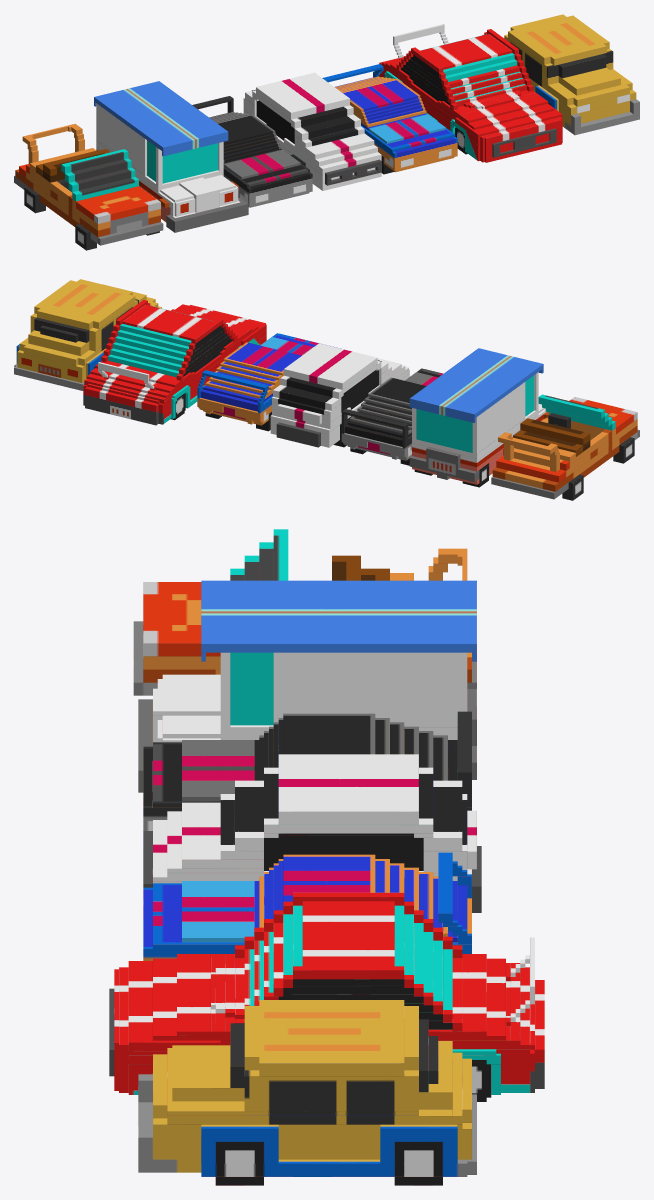
The model's file is Cars.fbx.
3 renders of one model, top to bottom at view 1: azimuth 30°, elevation 25°; view 2: azimuth 150°, elevation 25°; view 3: azimuth 270°, elevation 25°, orthographic. The views are drawn at different scales.
Visible parts, largest first — view 1: RedSport_Car, Iscream_Car, Roadster_Car, YellowTaxi_Car, Beatle_Car, BlueRacer_Car, BlackRacer_Car; view 2: RedSport_Car, Iscream_Car, Roadster_Car, YellowTaxi_Car, Beatle_Car, BlueRacer_Car, BlackRacer_Car; view 3: YellowTaxi_Car, RedSport_Car, Iscream_Car, Beatle_Car, BlueRacer_Car, BlackRacer_Car, Roadster_Car.
Boxes of the visible parts, x1,y1,x2,y2 form: RedSport_Car: (378,24,562,162); Iscream_Car: (94,81,248,232); Roadster_Car: (14,123,163,250); YellowTaxi_Car: (504,14,639,135); Beatle_Car: (243,72,381,190); BlueRacer_Car: (322,64,457,174); BlackRacer_Car: (192,96,312,207); RedSport_Car: (83,300,266,425); Iscream_Car: (409,348,549,487); Roadster_Car: (491,394,639,500); YellowTaxi_Car: (14,279,161,390); Beatle_Car: (270,343,409,447); BlueRacer_Car: (197,333,341,431); BlackRacer_Car: (341,368,442,465); YellowTaxi_Car: (138,1000,476,1185); RedSport_Car: (109,892,544,1101); Iscream_Car: (138,580,476,792); Beatle_Car: (143,754,481,912); BlueRacer_Car: (143,852,471,960); BlackRacer_Car: (143,711,471,830); Roadster_Car: (133,529,476,695).
Size of the model in its own units: 261 by 35 by 90.
Materials: 1 (1 with a texture image).
